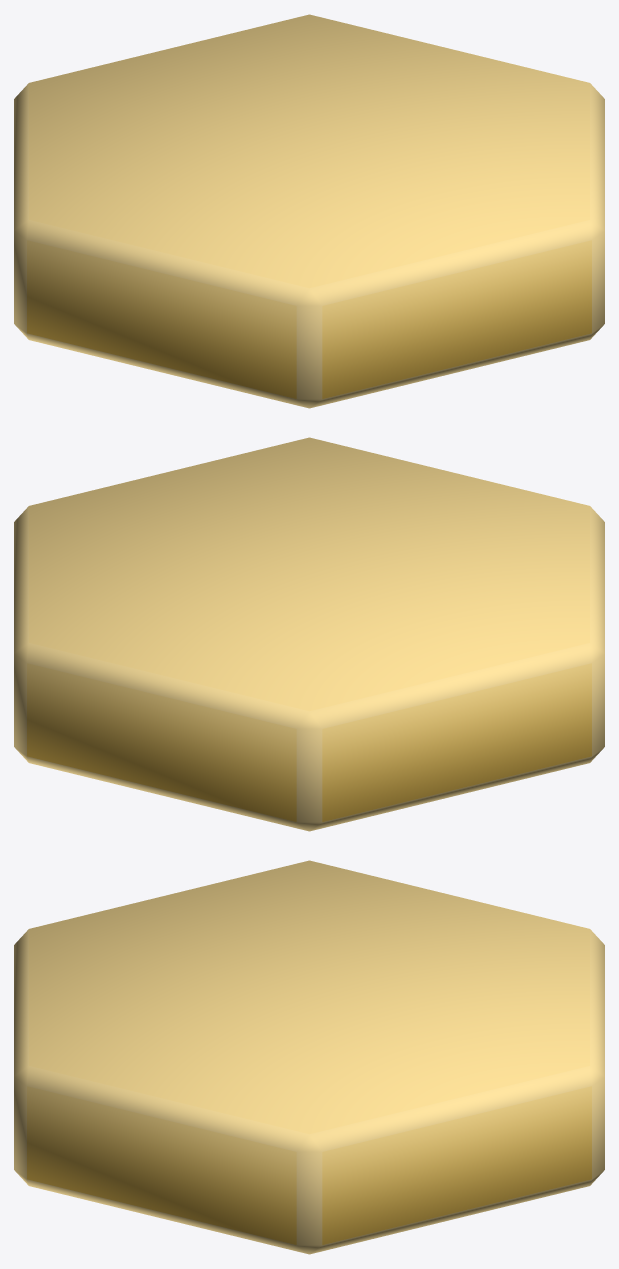
The model's file is bavel_spot_sand.fbx.
3 renders of one model, top to bottom at view 1: azimuth 30°, elevation 25°; view 2: azimuth 150°, elevation 25°; view 3: azimuth 270°, elevation 25°, orthographic.
Visible parts, largest first — view 1: bavel_spot_sand; view 2: bavel_spot_sand; view 3: bavel_spot_sand.
Part boxes in pixels (x1,y1,x2,y2): bavel_spot_sand: [14, 14, 604, 408]; bavel_spot_sand: [14, 437, 604, 831]; bavel_spot_sand: [14, 860, 604, 1254].
Bounding box in the file's own units: 358 × 71.12 × 317.
Materials: 1 (1 with a texture image).
